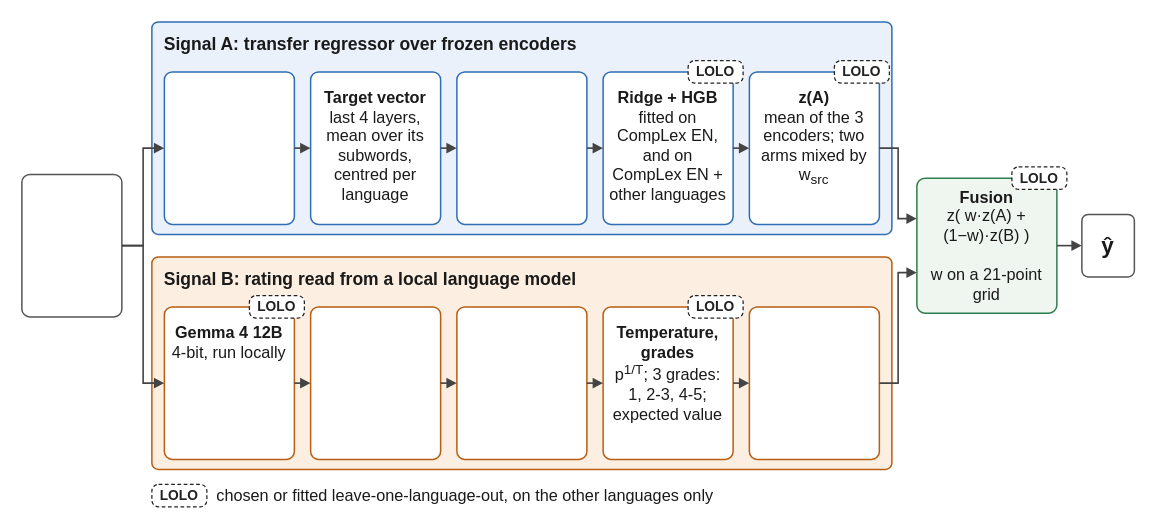
Image size: 1158x530. Some labels were removed from this diagram. Each missing label, with the centre of its shape:
"3 frozen encoders XLM-R base, LaBSE, mE5 base" goes at (x=228, y=147).
"3 prompts English, rate 1 to 5; the third marks the target «t»" goes at (x=375, y=383).
"Digit probabilities one forward pass, renormalised over 1 to 5" goes at (x=521, y=383).
"Input sentence s target t language L, held out" goes at (x=71, y=245).
"Lexical Zipf (form or lemma), subword count, syllables, capitals, 2 flags" goes at (x=521, y=147).
"z(B) mean of the 3 prompts" goes at (x=814, y=383).
